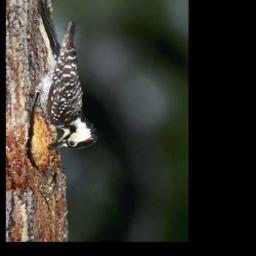Woodpecker: (25, 0, 102, 152)
